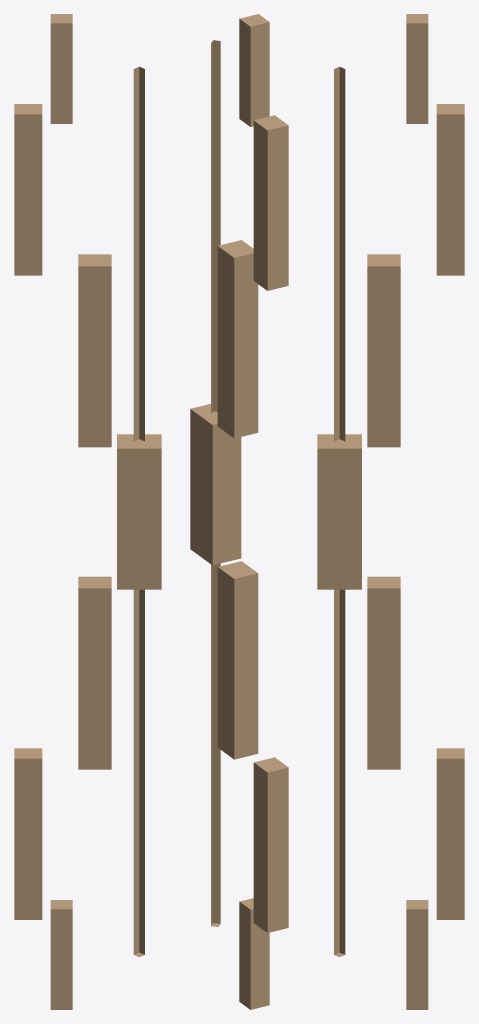
File: weapon_bow_recurve.glb
3 views of the same model, side by side, from view 1: azimuth 90°, elevation 25°; view 2: azimuth 210°, elevation 25°; view 3: azimuth 270°, elevation 25° (orthographic).
Parts seen in each view (by area): view 1: WeaponBowRecurve_Node; view 2: WeaponBowRecurve_Node; view 3: WeaponBowRecurve_Node.
Boxes of the visible parts, x1,y1,x2,y2 form: WeaponBowRecurve_Node: (14, 14, 161, 1009); WeaponBowRecurve_Node: (190, 14, 288, 1009); WeaponBowRecurve_Node: (317, 14, 464, 1009).
Size of the model in its own units: 0.03 by 0.98 by 0.1325.
